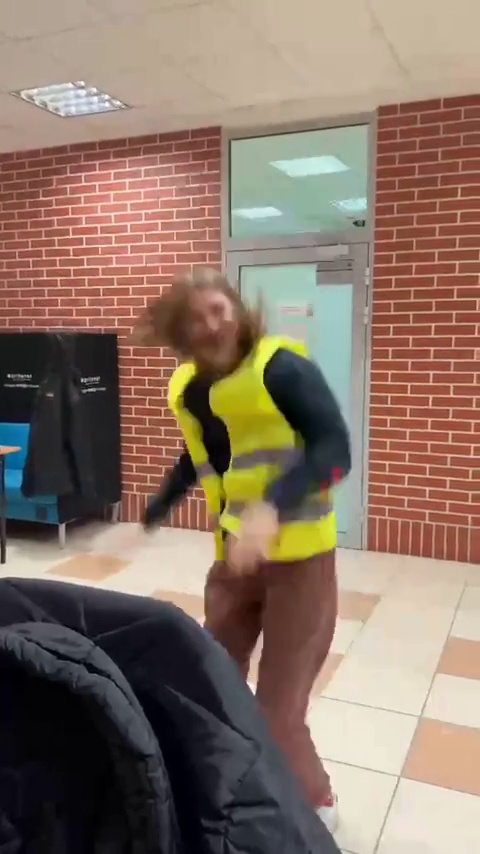vest: (141, 276, 354, 818)
